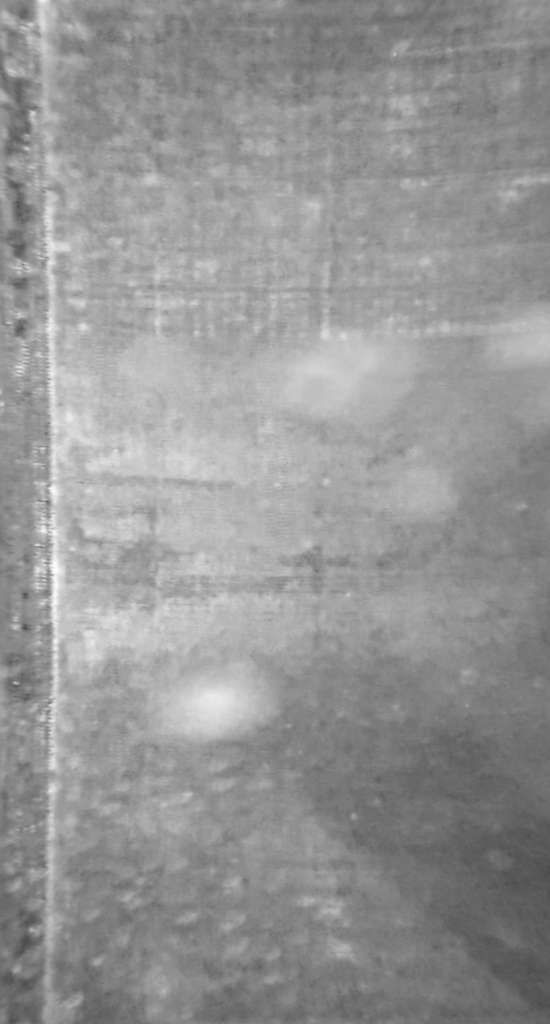splice: (1, 1, 61, 1024)
